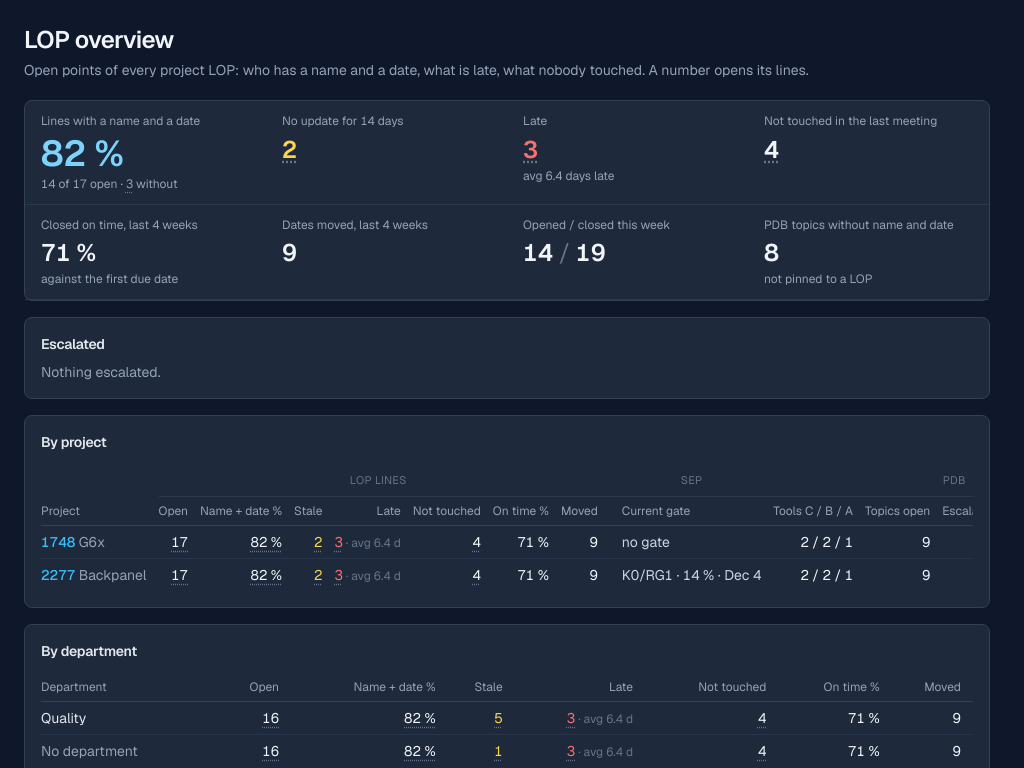
Test case: LopOverviewPage › opens the late lines of a project from its row and all late lines from the tile
The width and height of the screenshot is (1024, 768).
Later steps or results of the test are not shown.
Expected: the table named "By project" is shown, [41,464,973,591]
Click the button named "3 late" at (339, 575), box [334,565,343,585]
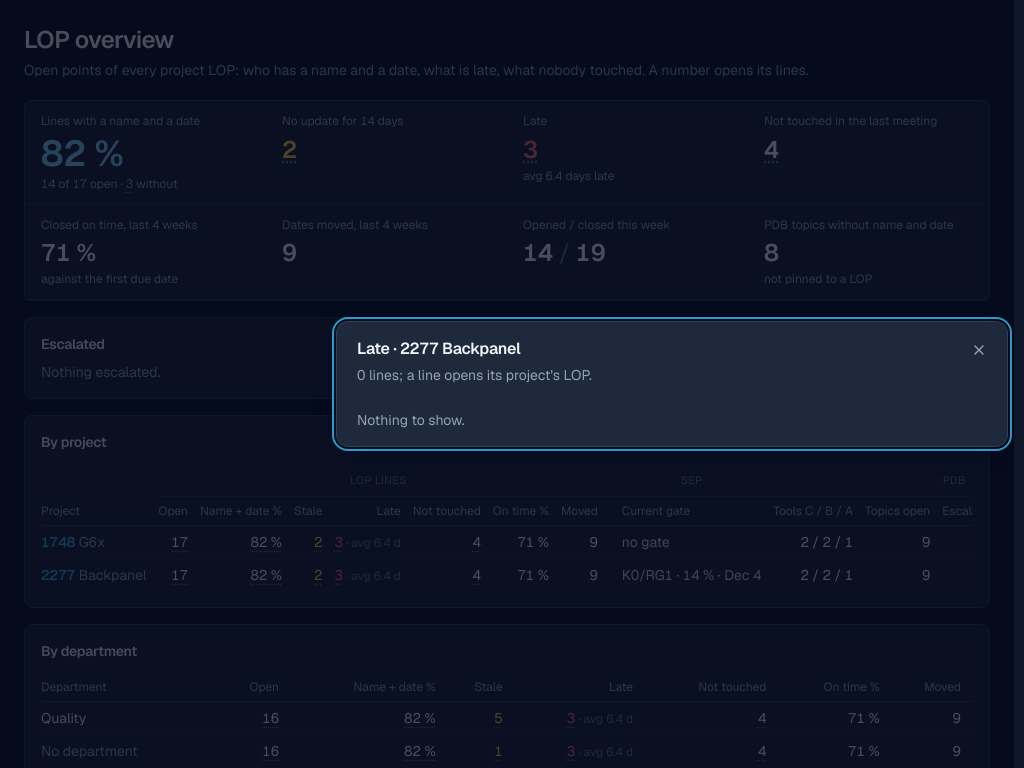
Now the text "Nothing to show." is shown, box [357,411,464,429]
Click the button named "Close" at (979, 350), box [963,334,995,366]
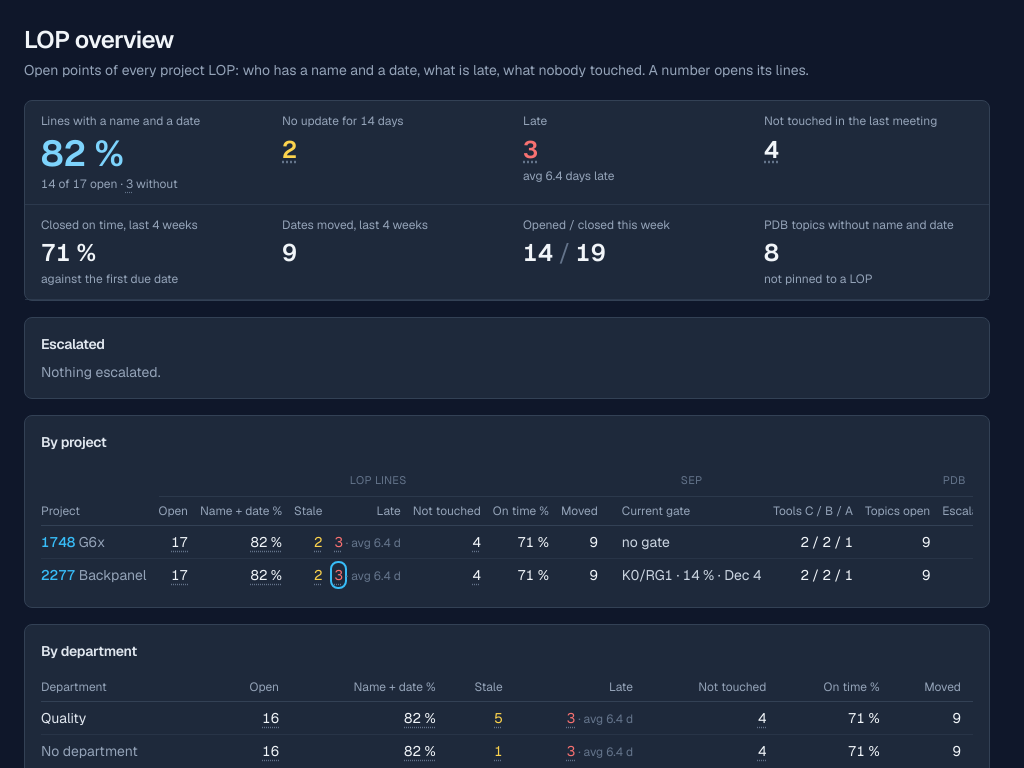
Now the dialog is gone
